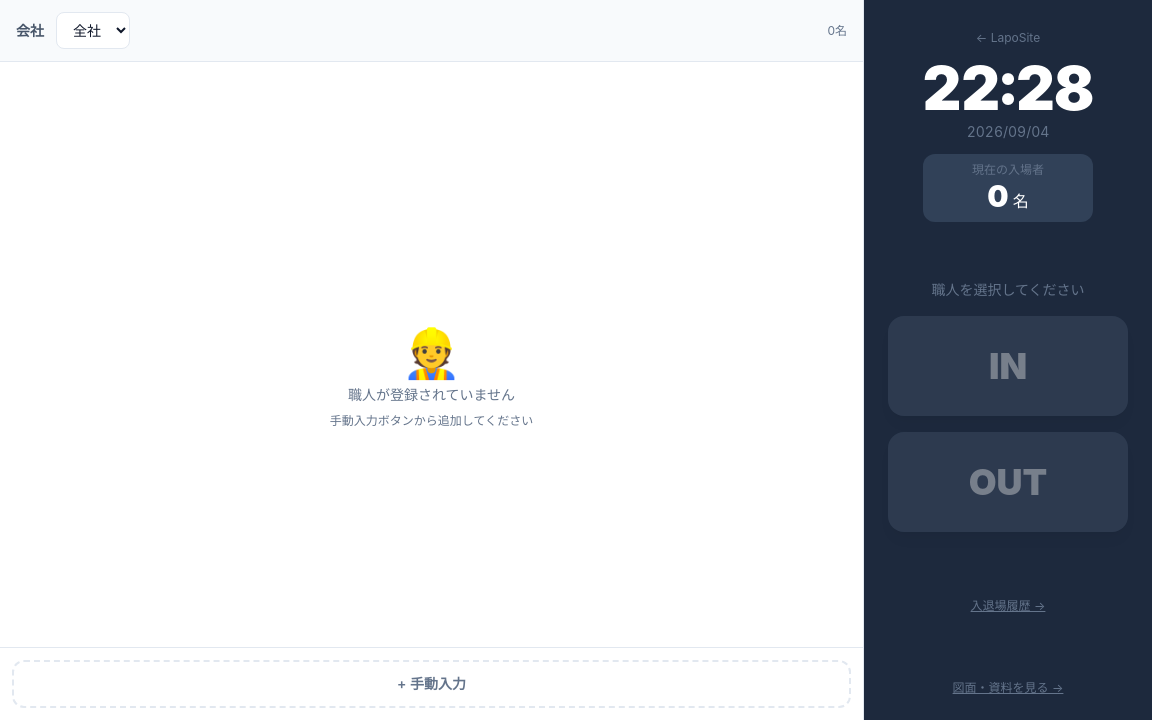
Scenario: SiteEntryPage › type=drawingの最新版のみが図面一覧に表示される（他プロジェクト・他typeは除外）
Click the button "図面・資料を見る →": (1008, 688) [953, 680, 1063, 696]
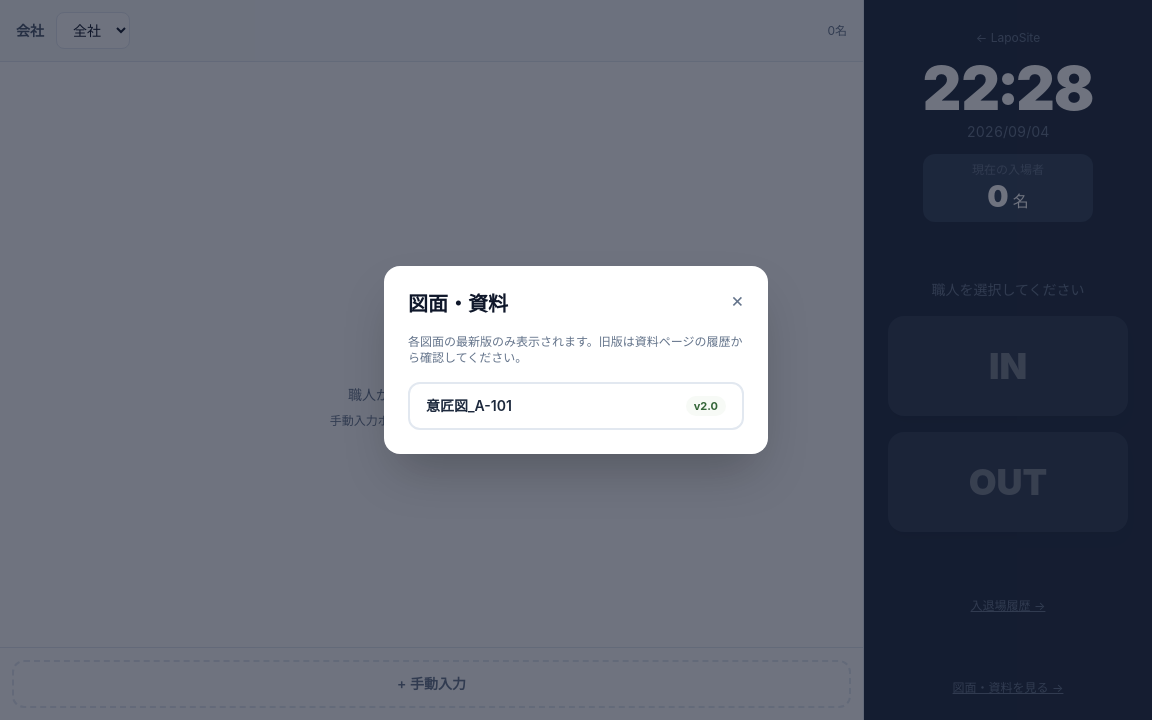
expect the text "意匠図_A-101" is shown: met, box [426, 396, 512, 416]
expect the text "v2.0" is shown: met, box [686, 396, 726, 416]
